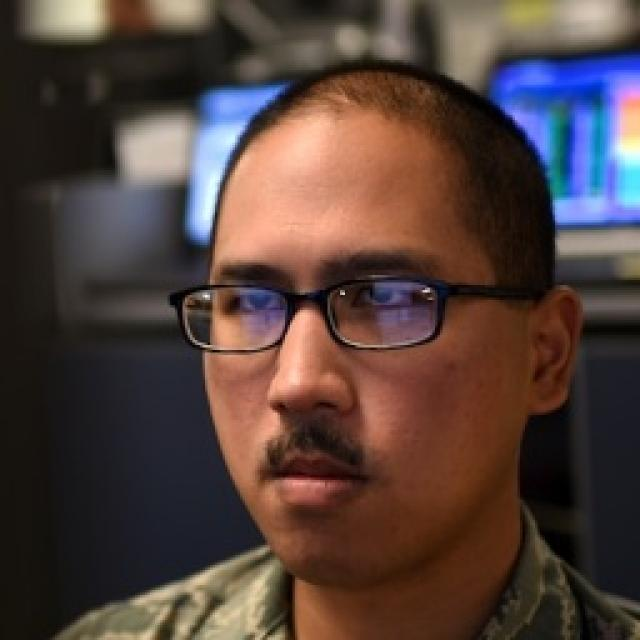glasses: (162, 262, 541, 357)
